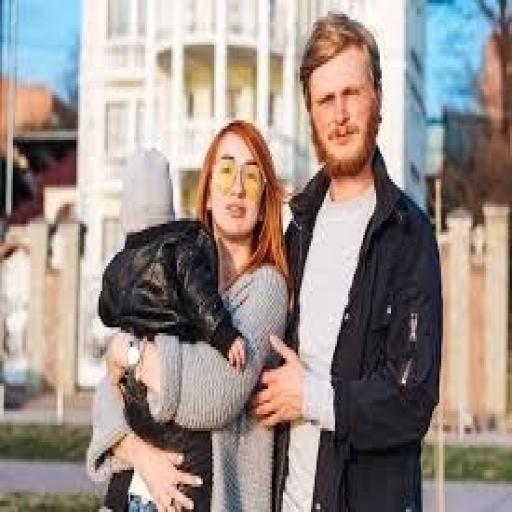hugging: (89, 8, 445, 510), (90, 115, 292, 509)
